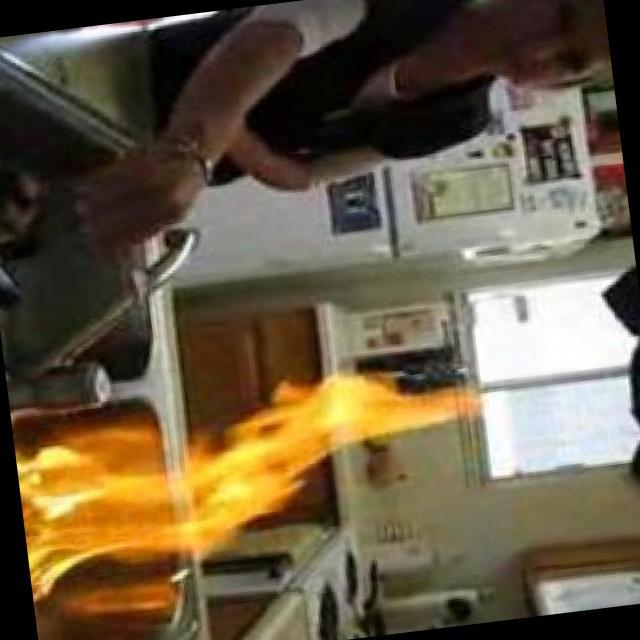Fire: (11, 361, 481, 577)
